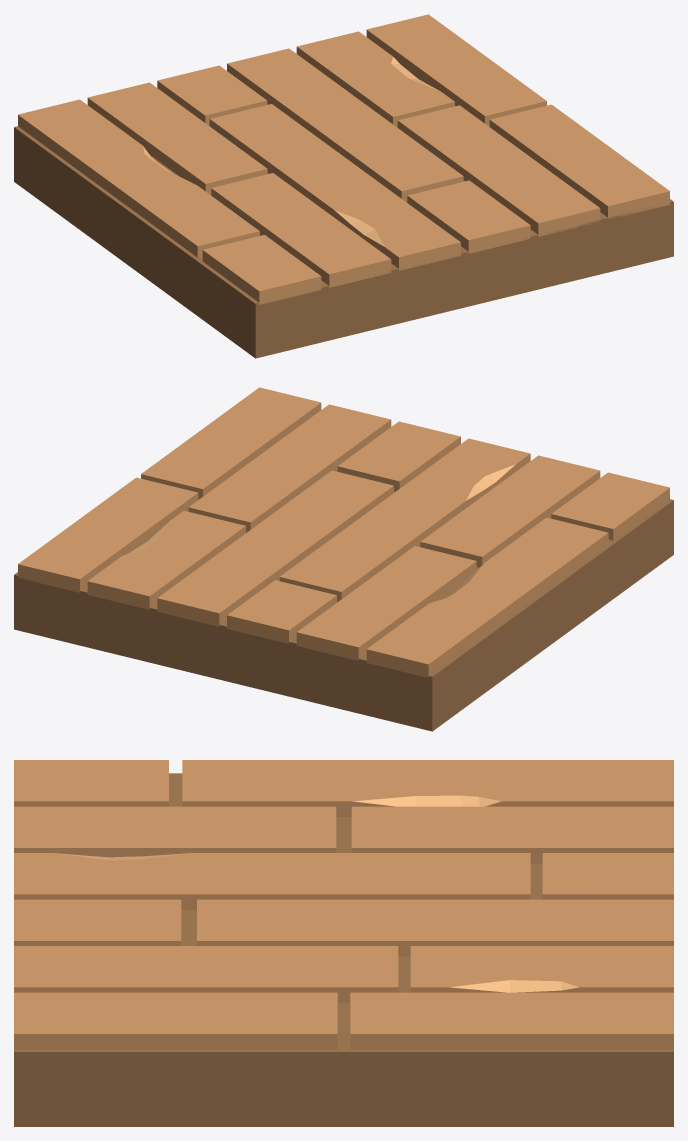
The model's file is WoodFloor-transformed.glb.
3 views of the same model, one above another, from view 1: azimuth 30°, elevation 25°; view 2: azimuth 150°, elevation 25°; view 3: azimuth 270°, elevation 25° (orthographic). The views are drawn at different scales.
Visible parts, largest first — view 1: Floor_Wood; view 2: Floor_Wood; view 3: Floor_Wood.
Part boxes in pixels (bbox=[...]): Floor_Wood: bbox=[14, 14, 673, 358]; Floor_Wood: bbox=[14, 387, 673, 731]; Floor_Wood: bbox=[14, 760, 673, 1126].
Size of the model in its own units: 4 by 0.6053 by 4.
Materials: 1 (1 with a texture image).
